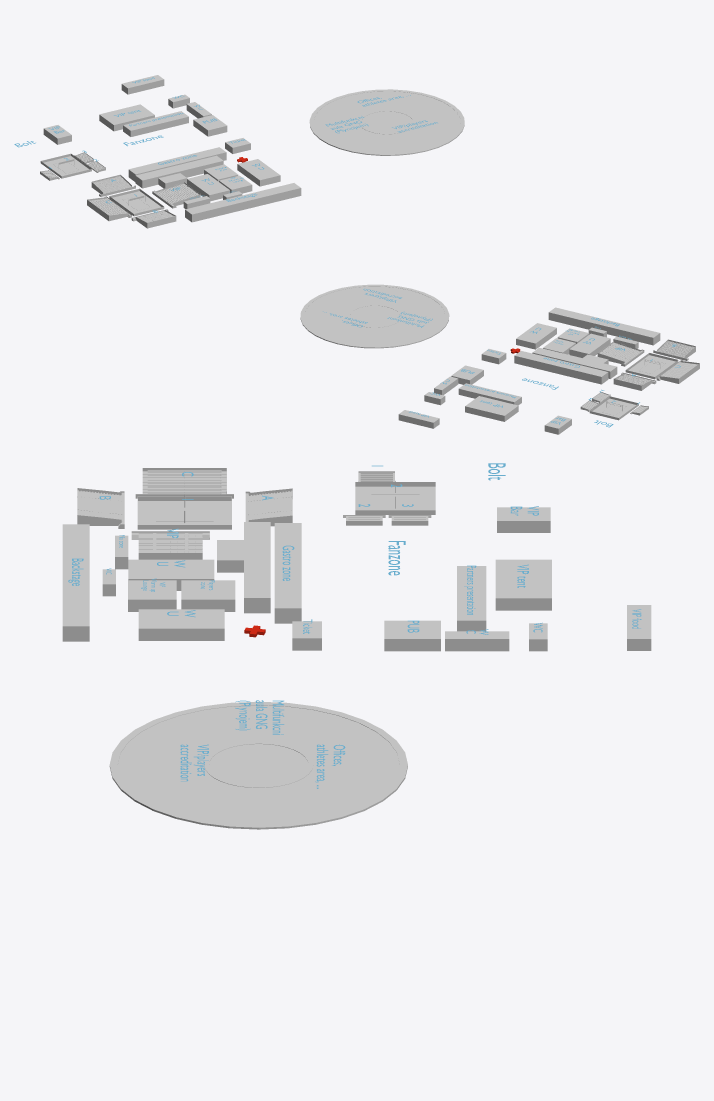
File: Beach_area.gltf
The picture shows the model from 3 angles, top to bottom: view 1: azimuth 30°, elevation 25°; view 2: azimuth 150°, elevation 25°; view 3: azimuth 270°, elevation 25°; orthographic projection. The views are drawn at different scales.
Visible parts, largest first — view 1: Cylinder.002, Area_gastro.007, Area_gastro.001, Area_gastro.013, Area_gastro, Area_gastro.014, Volleyball_court.001, Area_gastro.006, Public_B.001, Area_gastro.003, Cube.380, Volleyball_court (+7 smaller); view 2: Cylinder.002, Area_gastro.007, Area_gastro, Area_gastro.014, Area_gastro.001, Volleyball_court.001, Public_B.001, Area_gastro.006, Area_gastro.013, Area_gastro.003, Cube.380, Volleyball_court (+8 smaller); view 3: Cylinder.002, Area_gastro.007, Area_gastro.014, Area_gastro, Area_gastro.006, Volleyball_court.001, Cube.380, Area_gastro.001, Volleyball_court, Public_B.001, Area_gastro.003, Area_gastro.013 (+8 smaller).
Boxes of the visible parts, bbox=[...] form: Cylinder.002: bbox=[309, 89, 464, 155]; Area_gastro.007: bbox=[185, 183, 301, 222]; Area_gastro.001: bbox=[135, 155, 223, 188]; Area_gastro.013: bbox=[123, 111, 188, 136]; Area_gastro: bbox=[128, 147, 226, 181]; Area_gastro.014: bbox=[99, 104, 154, 131]; Volleyball_court.001: bbox=[40, 153, 91, 178]; Area_gastro.006: bbox=[237, 159, 280, 186]; Public_B.001: bbox=[152, 182, 200, 208]; Area_gastro.003: bbox=[187, 174, 229, 201]; Cube.380: bbox=[87, 196, 131, 221]; Volleyball_court: bbox=[112, 191, 161, 213]; Cylinder.002: bbox=[300, 284, 449, 348]; Area_gastro.007: bbox=[548, 307, 660, 345]; Area_gastro: bbox=[514, 351, 608, 384]; Area_gastro.014: bbox=[465, 396, 518, 421]; Area_gastro.001: bbox=[532, 347, 617, 378]; Volleyball_court.001: bbox=[589, 396, 638, 420]; Public_B.001: bbox=[597, 341, 644, 366]; Area_gastro.006: bbox=[516, 323, 556, 349]; Area_gastro.013: bbox=[458, 383, 521, 405]; Area_gastro.003: bbox=[569, 333, 610, 357]; Cube.380: bbox=[656, 360, 699, 383]; Volleyball_court: bbox=[628, 355, 675, 376]; Cylinder.002: bbox=[109, 701, 407, 829]; Area_gastro.007: bbox=[62, 524, 89, 641]; Area_gastro.014: bbox=[495, 559, 551, 610]; Area_gastro: bbox=[274, 523, 301, 623]; Area_gastro.006: bbox=[138, 609, 224, 640]; Volleyball_court.001: bbox=[355, 480, 435, 514]; Cube.380: bbox=[135, 468, 233, 498]; Area_gastro.001: bbox=[244, 522, 270, 613]; Volleyball_court: bbox=[138, 501, 231, 524]; Public_B.001: bbox=[131, 531, 209, 559]; Area_gastro.003: bbox=[128, 559, 214, 590]; Area_gastro.013: bbox=[457, 566, 486, 631].
Bounding box in the file's own units: 865 × 11.5 × 350.
